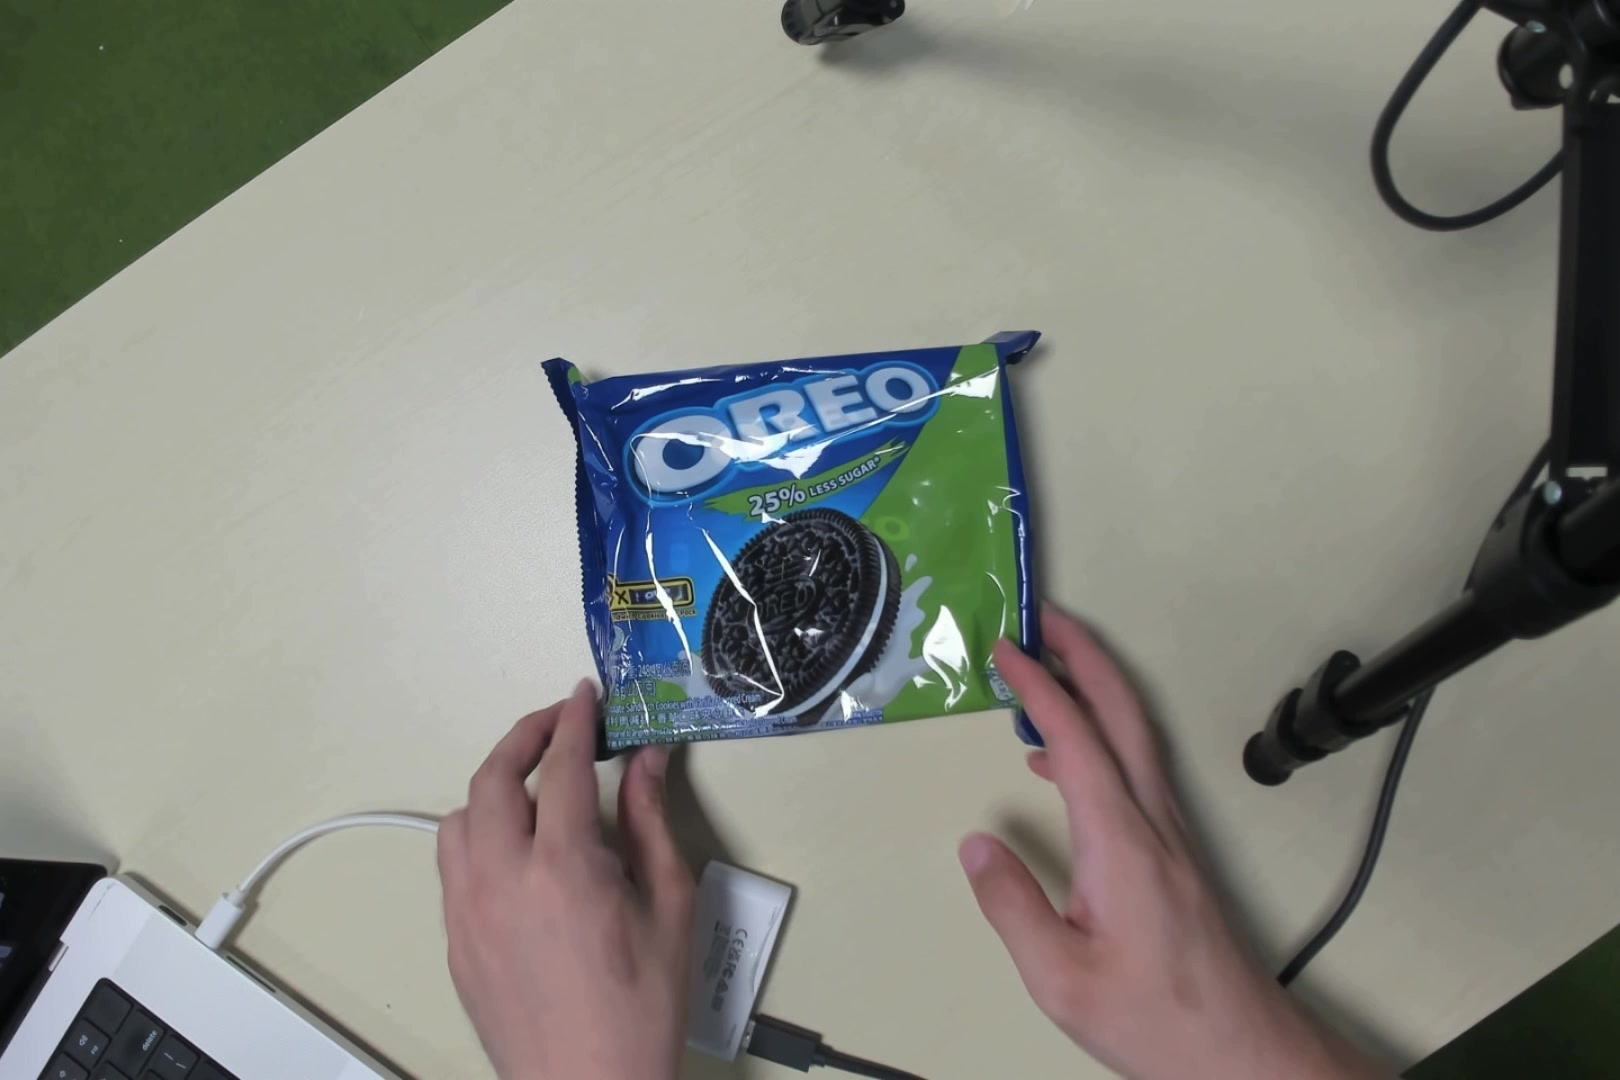SweetsChocolatesOthers_200-299g_Halal_NonHealthy: (547, 317, 1051, 744)
